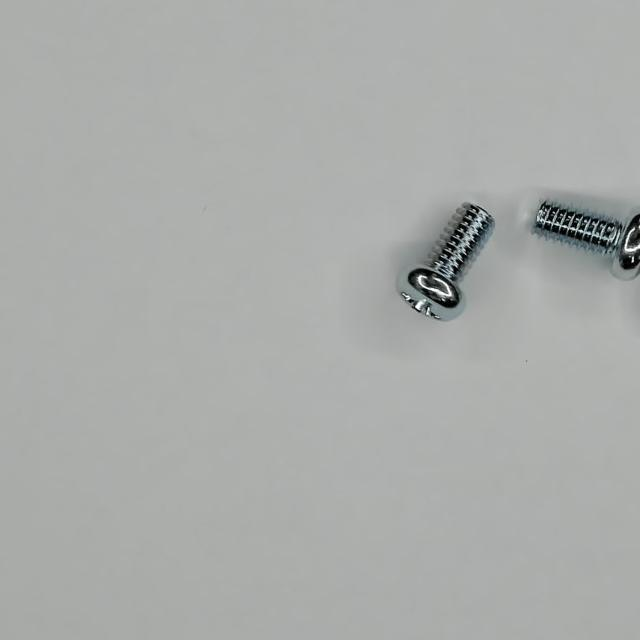Screw: (398, 202, 496, 320), (536, 202, 640, 280)
